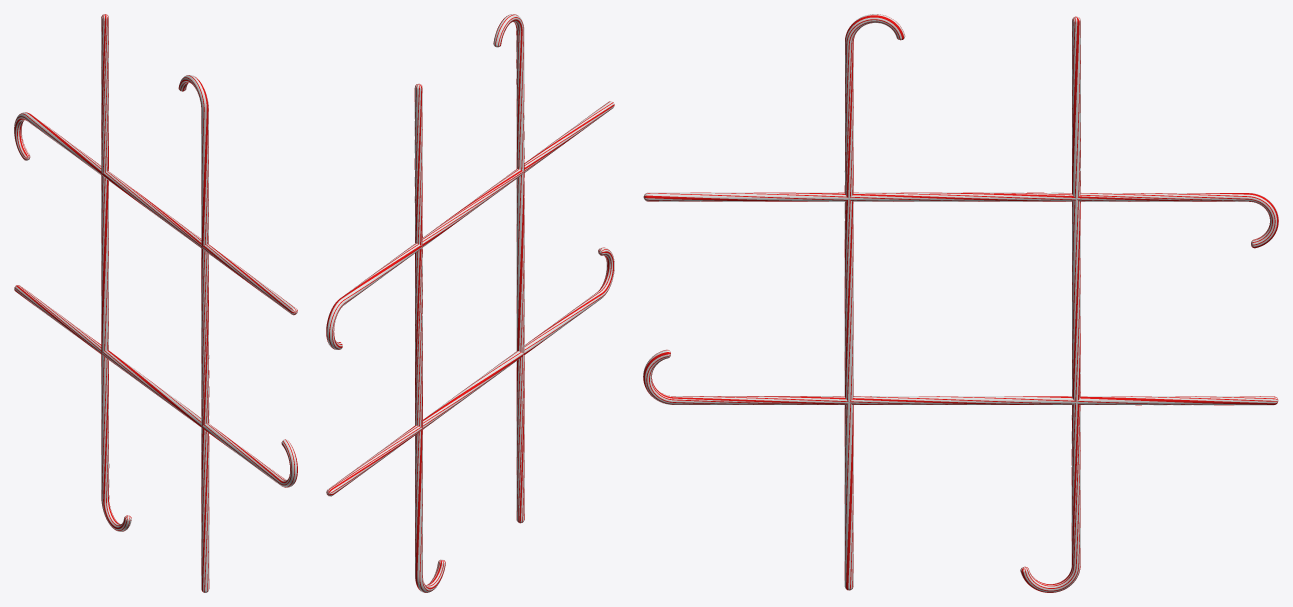
Rendered from Candy_Cane_Board (1).fbx.
The picture shows the model from 3 angles, left to right: view 1: azimuth 30°, elevation 25°; view 2: azimuth 150°, elevation 25°; view 3: azimuth 270°, elevation 25°; orthographic projection. The views are drawn at different scales.
Parts seen in each view (by area): view 1: Sphere, Sphere.001, Sphere.002, Sphere.003; view 2: Sphere, Sphere.001, Sphere.002, Sphere.003; view 3: Sphere.002, Sphere.003, Sphere, Sphere.001.
Part boxes in pixels (x1,y1,x2,y2): Sphere: (178, 75, 209, 592); Sphere.001: (101, 14, 131, 531); Sphere.002: (14, 112, 297, 315); Sphere.003: (14, 285, 297, 487); Sphere: (493, 14, 524, 523); Sphere.001: (414, 83, 445, 592); Sphere.002: (326, 101, 614, 349); Sphere.003: (326, 247, 614, 496); Sphere.002: (643, 192, 1278, 248); Sphere.003: (643, 349, 1278, 405); Sphere: (844, 14, 905, 590); Sphere.001: (1020, 16, 1080, 592).
Bounding box in the file's own units: 200 × 14285 × 14236.
